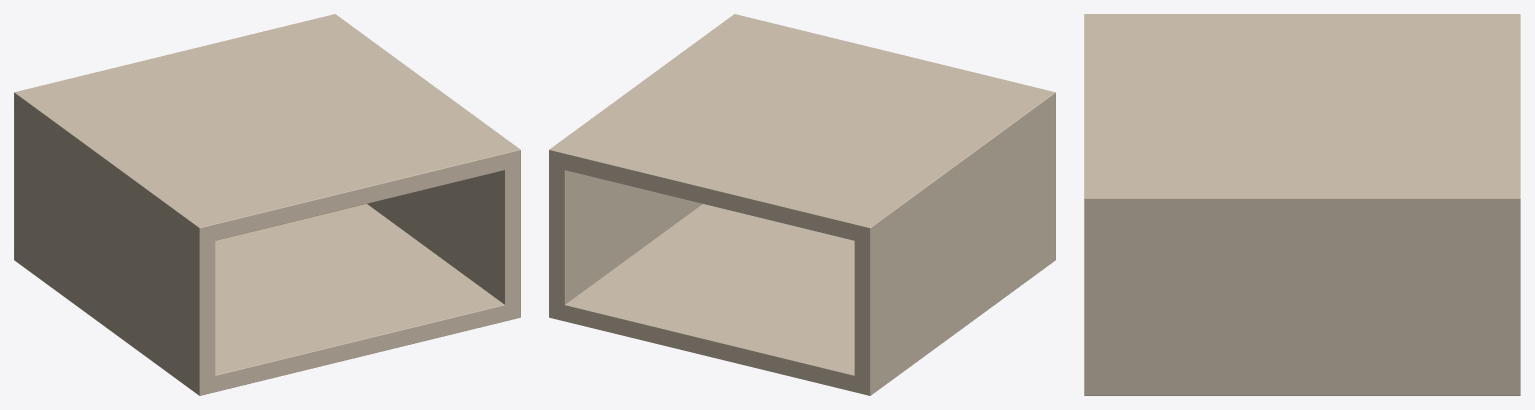
Rendered from MOD-1X05-A-O-AR.glb.
The picture shows the model from 3 angles, left to right: view 1: azimuth 30°, elevation 25°; view 2: azimuth 150°, elevation 25°; view 3: azimuth 270°, elevation 25°; orthographic projection. The views are drawn at different scales.
Size of the model in its own units: 360 by 180 by 360.
